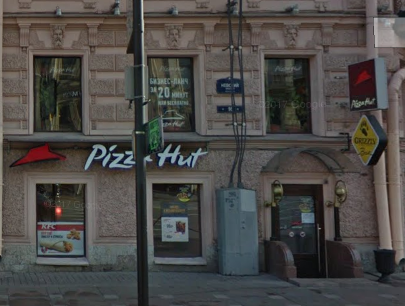cantilever: (327, 56, 390, 115), (329, 115, 391, 167)
signboard: (7, 137, 207, 174)
window: (151, 184, 200, 257), (34, 57, 81, 133), (36, 184, 84, 257), (266, 59, 313, 133), (149, 56, 194, 132)
